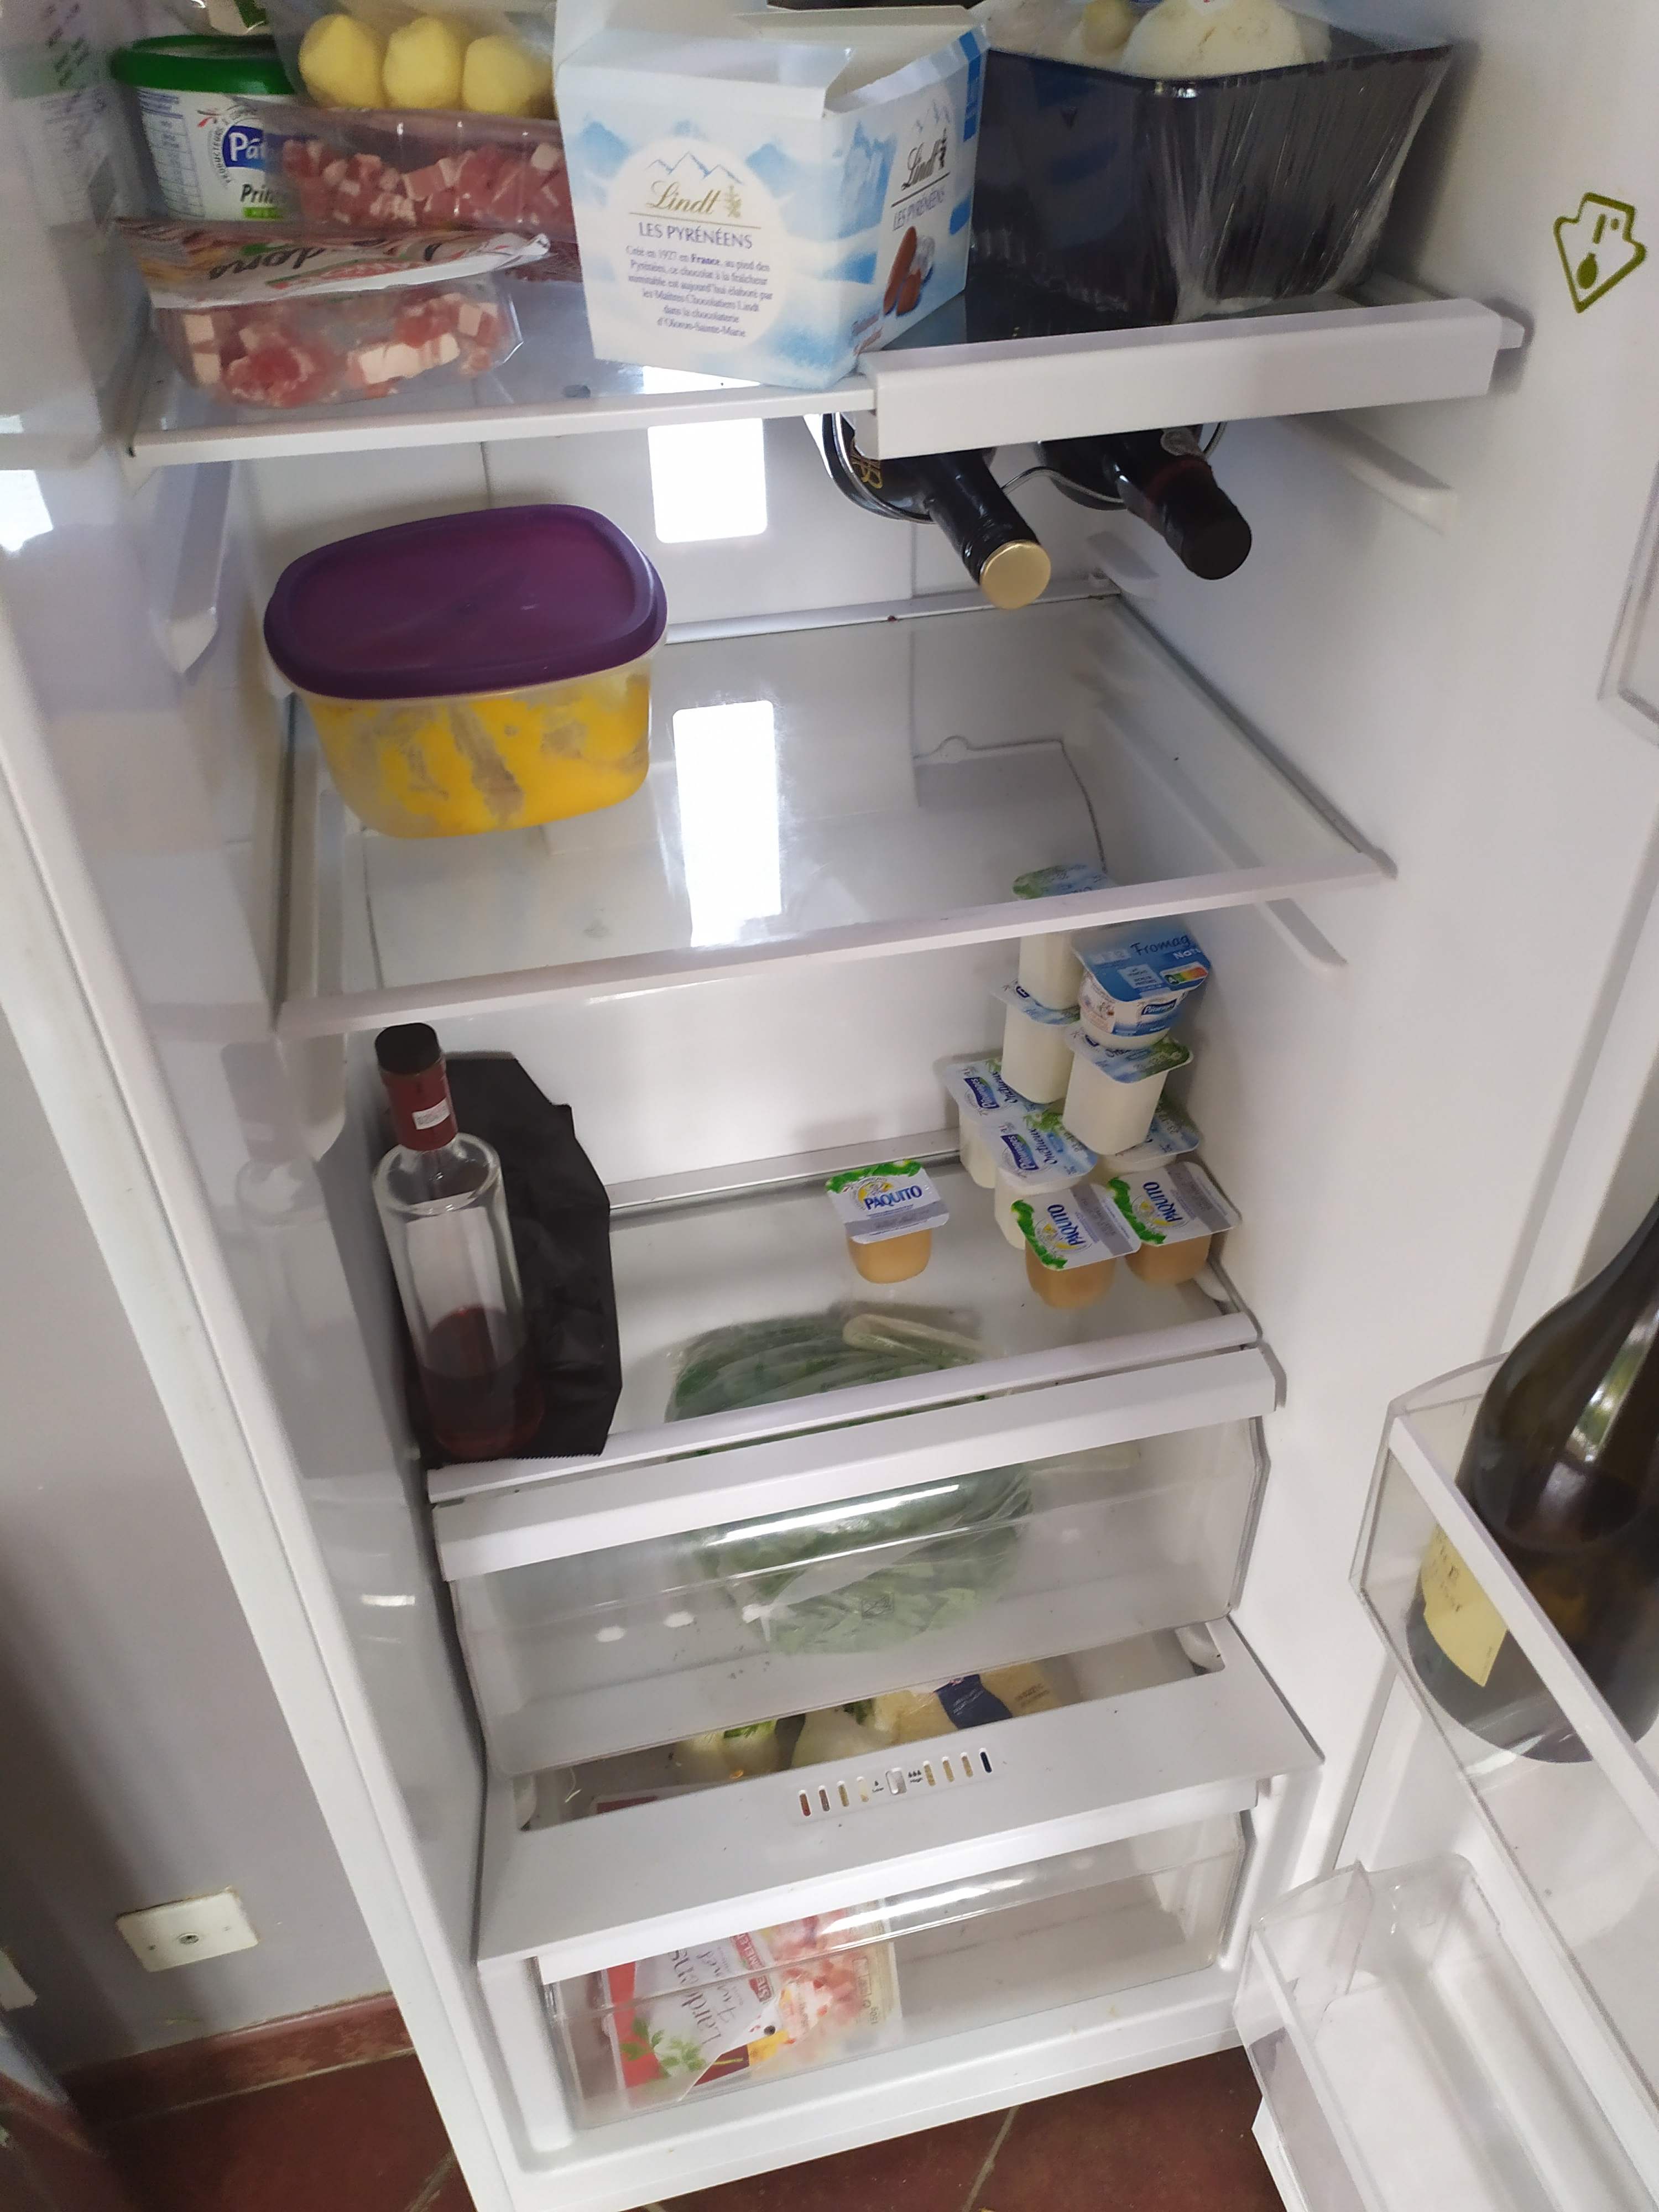bottle: (1412, 1191, 1659, 1764), (375, 1026, 537, 1475), (800, 401, 1054, 606), (1023, 408, 1255, 578)
compote: (1093, 1157, 1239, 1291), (1019, 1181, 1143, 1301), (828, 1162, 939, 1278)
mushroom: (978, 2, 1464, 315)
yoghurt: (1066, 911, 1206, 1050), (1014, 864, 1121, 1008), (1079, 1026, 1182, 1158), (934, 1054, 1040, 1181), (1086, 1099, 1204, 1198), (997, 974, 1075, 1115)
